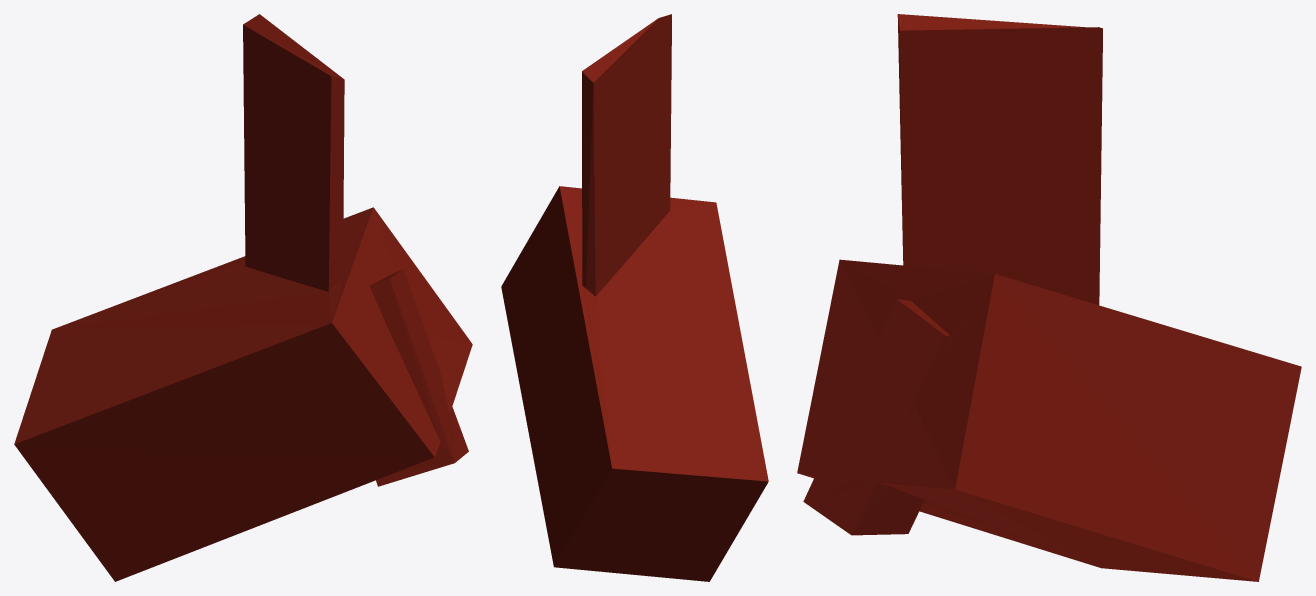
The picture shows the model from 3 angles, left to right: view 1: azimuth 30°, elevation 25°; view 2: azimuth 150°, elevation 25°; view 3: azimuth 270°, elevation 25°; orthographic projection. The views are drawn at different scales.
Visible parts, largest first — view 1: 189_Cube.785; view 2: 189_Cube.785; view 3: 189_Cube.785.
Part boxes in pixels (x1,y1,x2,y2): 189_Cube.785: [14, 14, 472, 581]; 189_Cube.785: [501, 14, 768, 581]; 189_Cube.785: [797, 14, 1301, 581].
Size of the model in its own units: 13.45 by 18.27 by 13.31.
